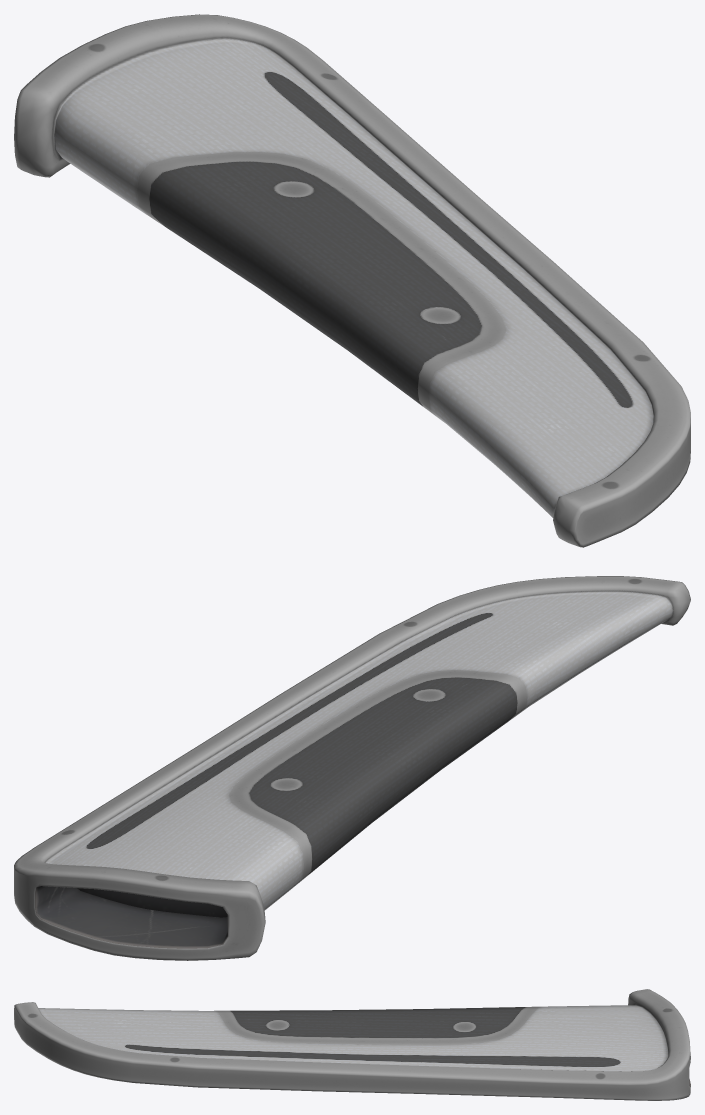
The model's file is MeleeMachete02_2.FBX.
3 views of the same model, one above another, from view 1: azimuth 30°, elevation 25°; view 2: azimuth 150°, elevation 25°; view 3: azimuth 270°, elevation 25° (orthographic). The views are drawn at different scales.
Visible parts, largest first — view 1: MeleeMachete02_2; view 2: MeleeMachete02_2; view 3: MeleeMachete02_2.
Part boxes in pixels (x1,y1,x2,y2): MeleeMachete02_2: (14,14,690,547); MeleeMachete02_2: (14,576,690,960); MeleeMachete02_2: (14,989,690,1100).
Size of what is drawn, in the model's own units: 0.2158 by 0.0684 by 0.7381.
